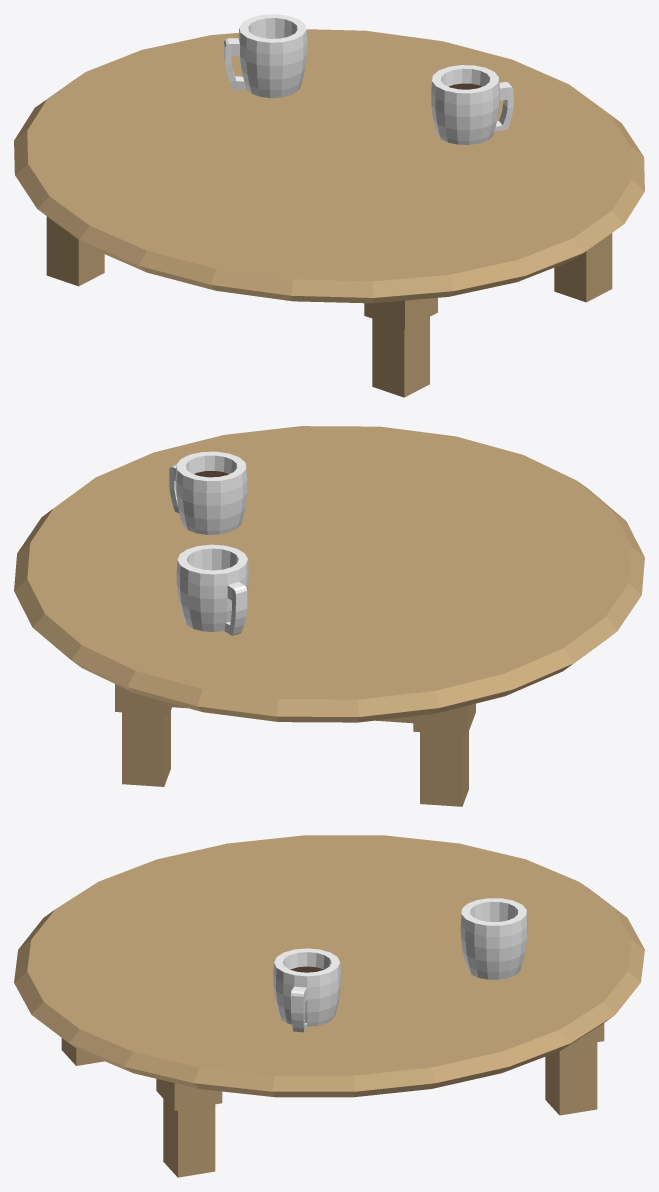
The model's file is coffeetable.glb.
3 views of the same model, one above another, from view 1: azimuth 30°, elevation 25°; view 2: azimuth 150°, elevation 25°; view 3: azimuth 270°, elevation 25° (orthographic). The views are drawn at different scales.
Parts seen in each view (by area): view 1: Coffe table, Mug.001, Mug; view 2: Coffe table, Mug.001, Mug; view 3: Coffe table, Mug.001, Mug.
Boxes of the visible parts, bbox=[...] form: Coffe table: bbox=[14, 29, 644, 397]; Mug.001: bbox=[224, 14, 307, 97]; Mug: bbox=[431, 65, 513, 144]; Coffe table: bbox=[14, 426, 644, 806]; Mug.001: bbox=[176, 544, 248, 635]; Mug: bbox=[169, 451, 247, 534]; Coffe table: bbox=[14, 835, 644, 1177]; Mug.001: bbox=[460, 898, 527, 979]; Mug: bbox=[273, 948, 340, 1032].
Size of the model in its own units: 2.07 by 0.6959 by 2.2.
